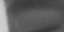LeftEyeFatigue: (6, 1, 64, 31)
